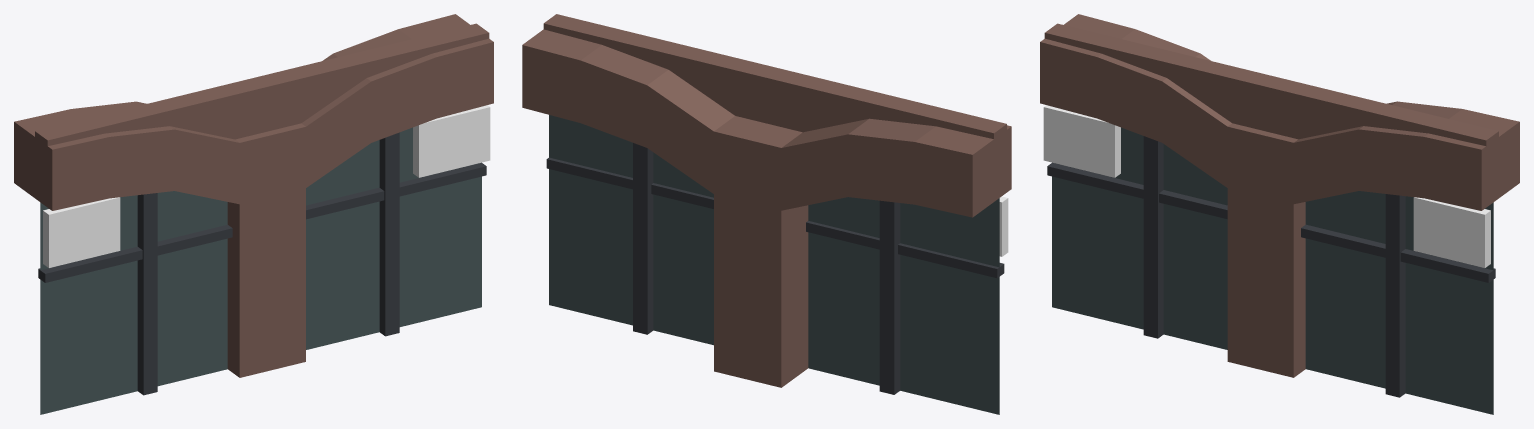
3 renders of one model, left to right at view 1: azimuth 30°, elevation 25°; view 2: azimuth 150°, elevation 25°; view 3: azimuth 330°, elevation 25°, orthographic. The views are drawn at different scales.
Parts seen in each view (by area): view 1: a2009.wall.003; view 2: a2009.wall.003; view 3: a2009.wall.003.
Boxes of the visible parts, <box> form: a2009.wall.003: <box>14,14,493,414</box>; a2009.wall.003: <box>522,14,1011,414</box>; a2009.wall.003: <box>1040,14,1519,414</box>.
Size of the model in its own units: 8 by 4.85 by 1.2.
